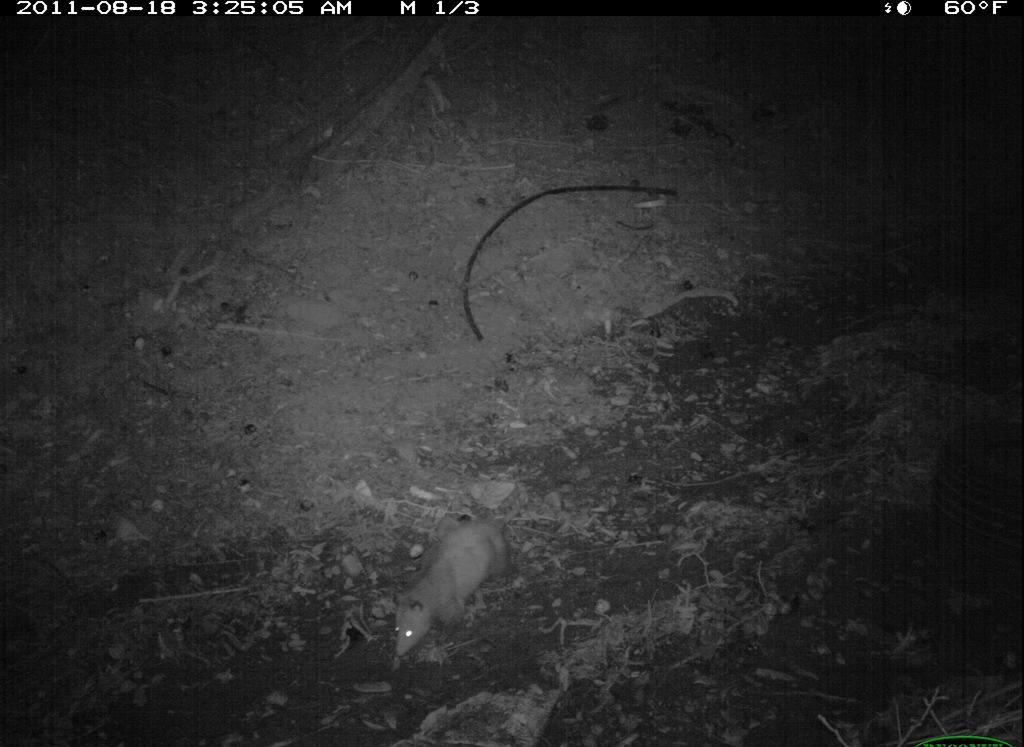opossum: (379, 518, 525, 664)
